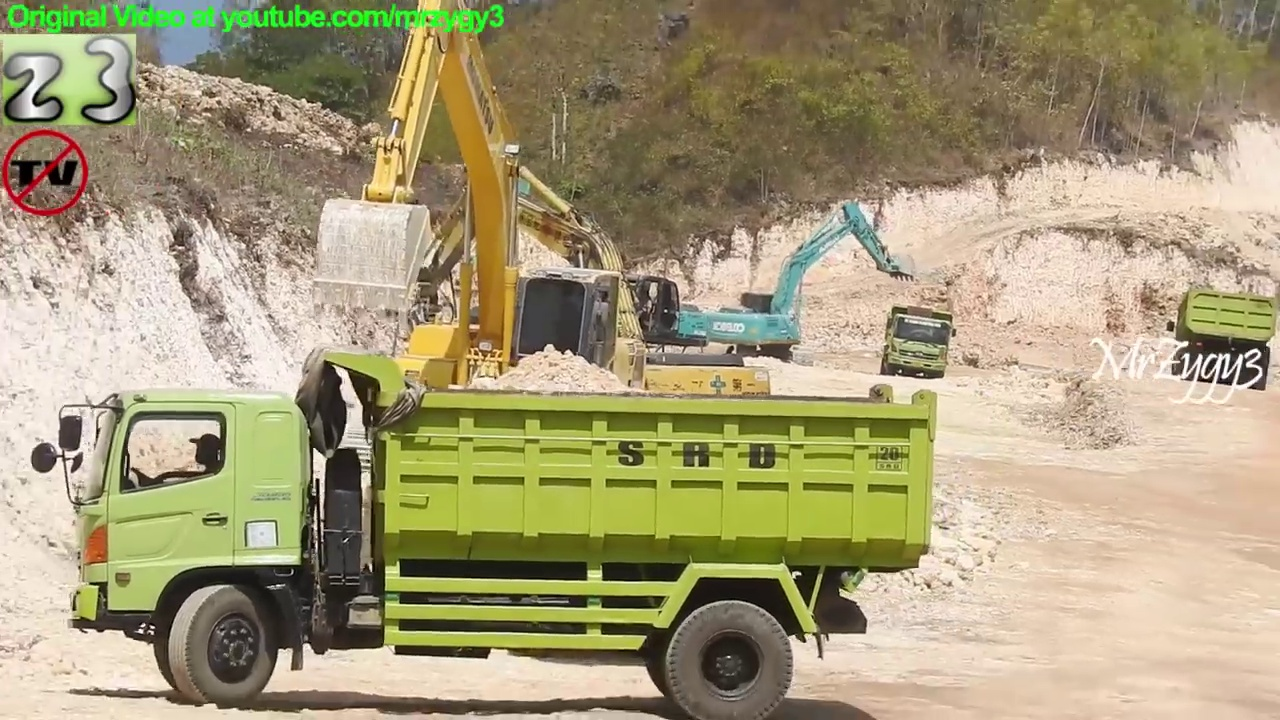excavator: (303, 2, 648, 502), (399, 140, 778, 486), (447, 162, 716, 400), (707, 202, 917, 376)
truck: (30, 345, 942, 720), (1161, 286, 1280, 394), (875, 302, 960, 382)
